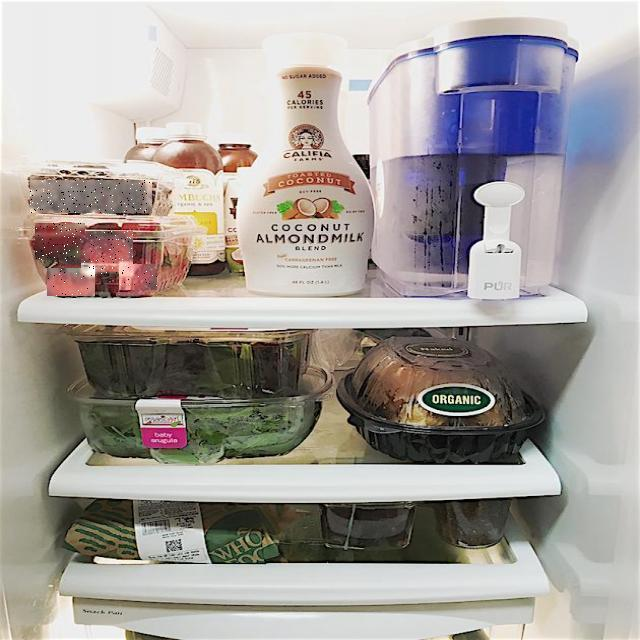Blue Berries: (31, 180, 153, 213)
Straw Berry: (81, 232, 133, 276), (35, 224, 85, 262), (47, 268, 95, 296), (119, 264, 157, 290)
